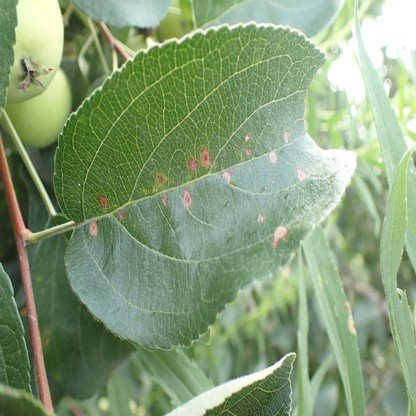frogeye_leaf_spot: (273, 226, 288, 246), (222, 167, 234, 182), (183, 189, 192, 208), (296, 168, 307, 182), (201, 150, 210, 167), (188, 158, 199, 171), (89, 222, 98, 236), (269, 151, 278, 164), (97, 196, 107, 207), (117, 209, 124, 221), (156, 173, 163, 183), (284, 129, 289, 142), (163, 193, 167, 208), (258, 214, 264, 222), (246, 146, 251, 154)
